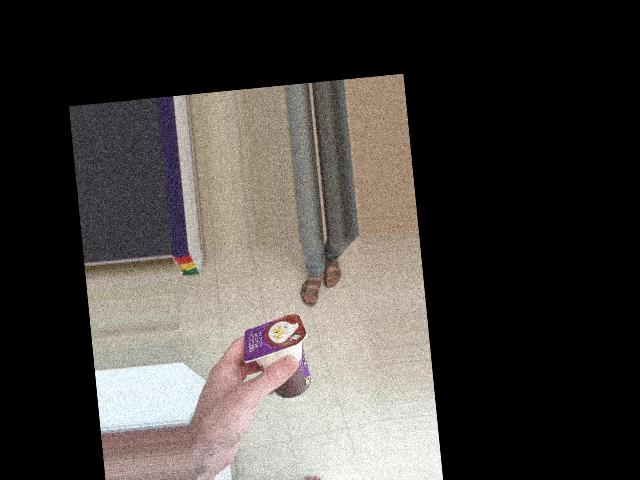milky: (246, 303, 334, 374)
